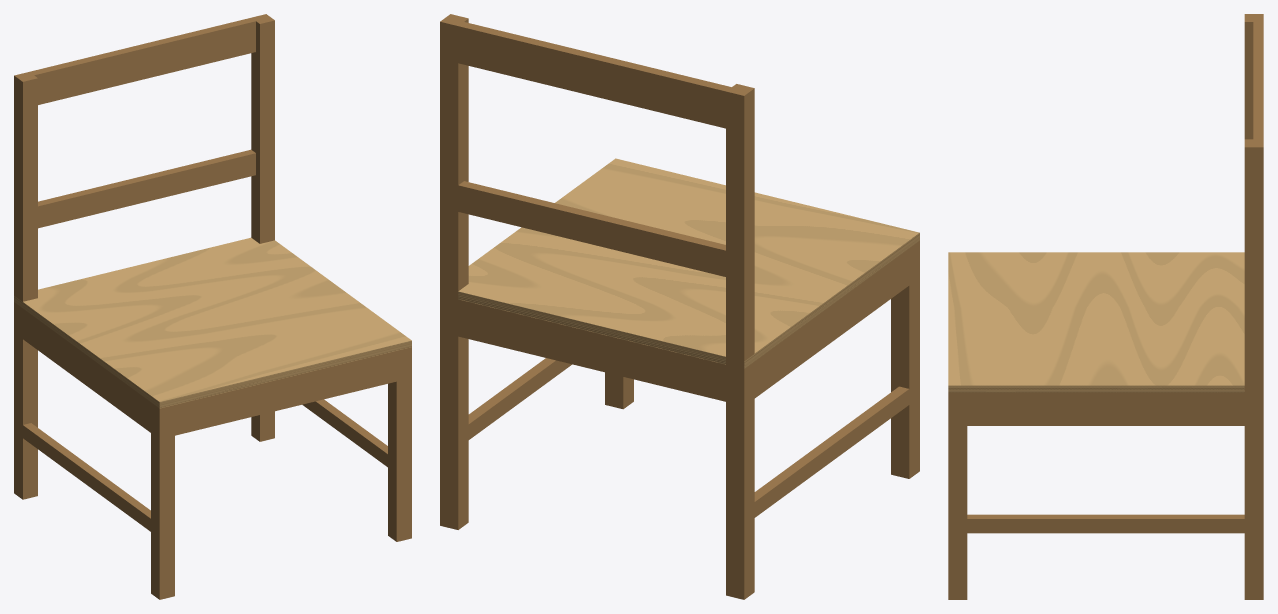
Rendered from HIN-DKC-std.glb.
3 renders of one model, left to right at view 1: azimuth 30°, elevation 25°; view 2: azimuth 150°, elevation 25°; view 3: azimuth 270°, elevation 25°, orthographic. The views are drawn at different scales.
Visible parts, largest first — view 1: seat:sheet:eyJtIjoicGx5Iiwic2lkZSI6ImZhY2UiLCJzZWVkIjo2LCJ2Z, leg-bl:pbr, back-top:pbr, rail-f:pbr, back-mid:pbr, leg-br:pbr, leg-fl:pbr, leg-fr:pbr, rail-l:pbr, stretcher-l:pbr, seat:sheet:eyJtIjoicGx5Iiwic2lkZSI6ImVkZ2UtbG9uZyIsInNlZWQiO, stretcher-r:pbr (+1 smaller); view 2: seat:sheet:eyJtIjoicGx5Iiwic2lkZSI6ImZhY2UiLCJzZWVkIjo2LCJ2Z, leg-bl:pbr, leg-br:pbr, back-top:pbr, rail-b:pbr, back-mid:pbr, rail-l:pbr, leg-fl:pbr, stretcher-l:pbr, stretcher-r:pbr, seat:sheet:eyJtIjoicGx5Iiwic2lkZSI6ImVkZ2UtbG9uZyIsInNlZWQiO, seat:sheet:eyJtIjoicGx5Iiwic2lkZSI6ImVkZ2UtZW5kIiwic2VlZCI6N (+1 smaller); view 3: seat:sheet:eyJtIjoicGx5Iiwic2lkZSI6ImZhY2UiLCJzZWVkIjo2LCJ2Z, rail-r:pbr, leg-br:pbr, stretcher-r:pbr, leg-fr:pbr, seat:sheet:eyJtIjoicGx5Iiwic2lkZSI6ImVkZ2UtZW5kIiwic2VlZCI6N, leg-bl:pbr, back-top:pbr.
Boxes of the visible parts, x1,y1,x2,y2 form: seat:sheet:eyJtIjoicGx5Iiwic2lkZSI6ImZhY2UiLCJzZWVkIjo2LCJ2Z: (23, 237, 411, 401); leg-bl:pbr: (14, 72, 37, 499); back-top:pbr: (29, 18, 255, 104); rail-f:pbr: (175, 351, 396, 435); back-mid:pbr: (38, 149, 255, 228); leg-br:pbr: (251, 14, 274, 441); leg-fl:pbr: (151, 402, 174, 599); leg-fr:pbr: (388, 347, 411, 541); rail-l:pbr: (23, 309, 150, 432); stretcher-l:pbr: (23, 423, 150, 531); seat:sheet:eyJtIjoicGx5Iiwic2lkZSI6ImVkZ2UtbG9uZyIsInNlZWQiO: (159, 340, 411, 408); stretcher-r:pbr: (302, 399, 387, 467); seat:sheet:eyJtIjoicGx5Iiwic2lkZSI6ImZhY2UiLCJzZWVkIjo2LCJ2Z: (458, 158, 919, 356); leg-bl:pbr: (726, 84, 754, 599); leg-br:pbr: (440, 14, 468, 529); back-top:pbr: (458, 22, 731, 128); rail-b:pbr: (458, 299, 725, 401); back-mid:pbr: (458, 181, 725, 276); rail-l:pbr: (754, 249, 909, 398); leg-fl:pbr: (891, 241, 919, 478); stretcher-l:pbr: (754, 386, 909, 517); stretcher-r:pbr: (468, 358, 571, 439); seat:sheet:eyJtIjoicGx5Iiwic2lkZSI6ImVkZ2UtbG9uZyIsInNlZWQiO: (458, 291, 725, 364); seat:sheet:eyJtIjoicGx5Iiwic2lkZSI6ImVkZ2UtZW5kIiwic2VlZCI6N: (744, 233, 919, 368); seat:sheet:eyJtIjoicGx5Iiwic2lkZSI6ImZhY2UiLCJzZWVkIjo2LCJ2Z: (948, 252, 1244, 385); rail-r:pbr: (967, 392, 1244, 425); leg-br:pbr: (1244, 139, 1263, 599); stretcher-r:pbr: (967, 514, 1244, 533); leg-fr:pbr: (948, 392, 967, 599); seat:sheet:eyJtIjoicGx5Iiwic2lkZSI6ImVkZ2UtZW5kIiwic2VlZCI6N: (948, 385, 1244, 392); leg-bl:pbr: (1244, 14, 1263, 139); back-top:pbr: (1253, 22, 1263, 139).
Bounding box in the file's own units: 0.6002 × 0.95 × 0.6.
15 materials, 3 textured.
